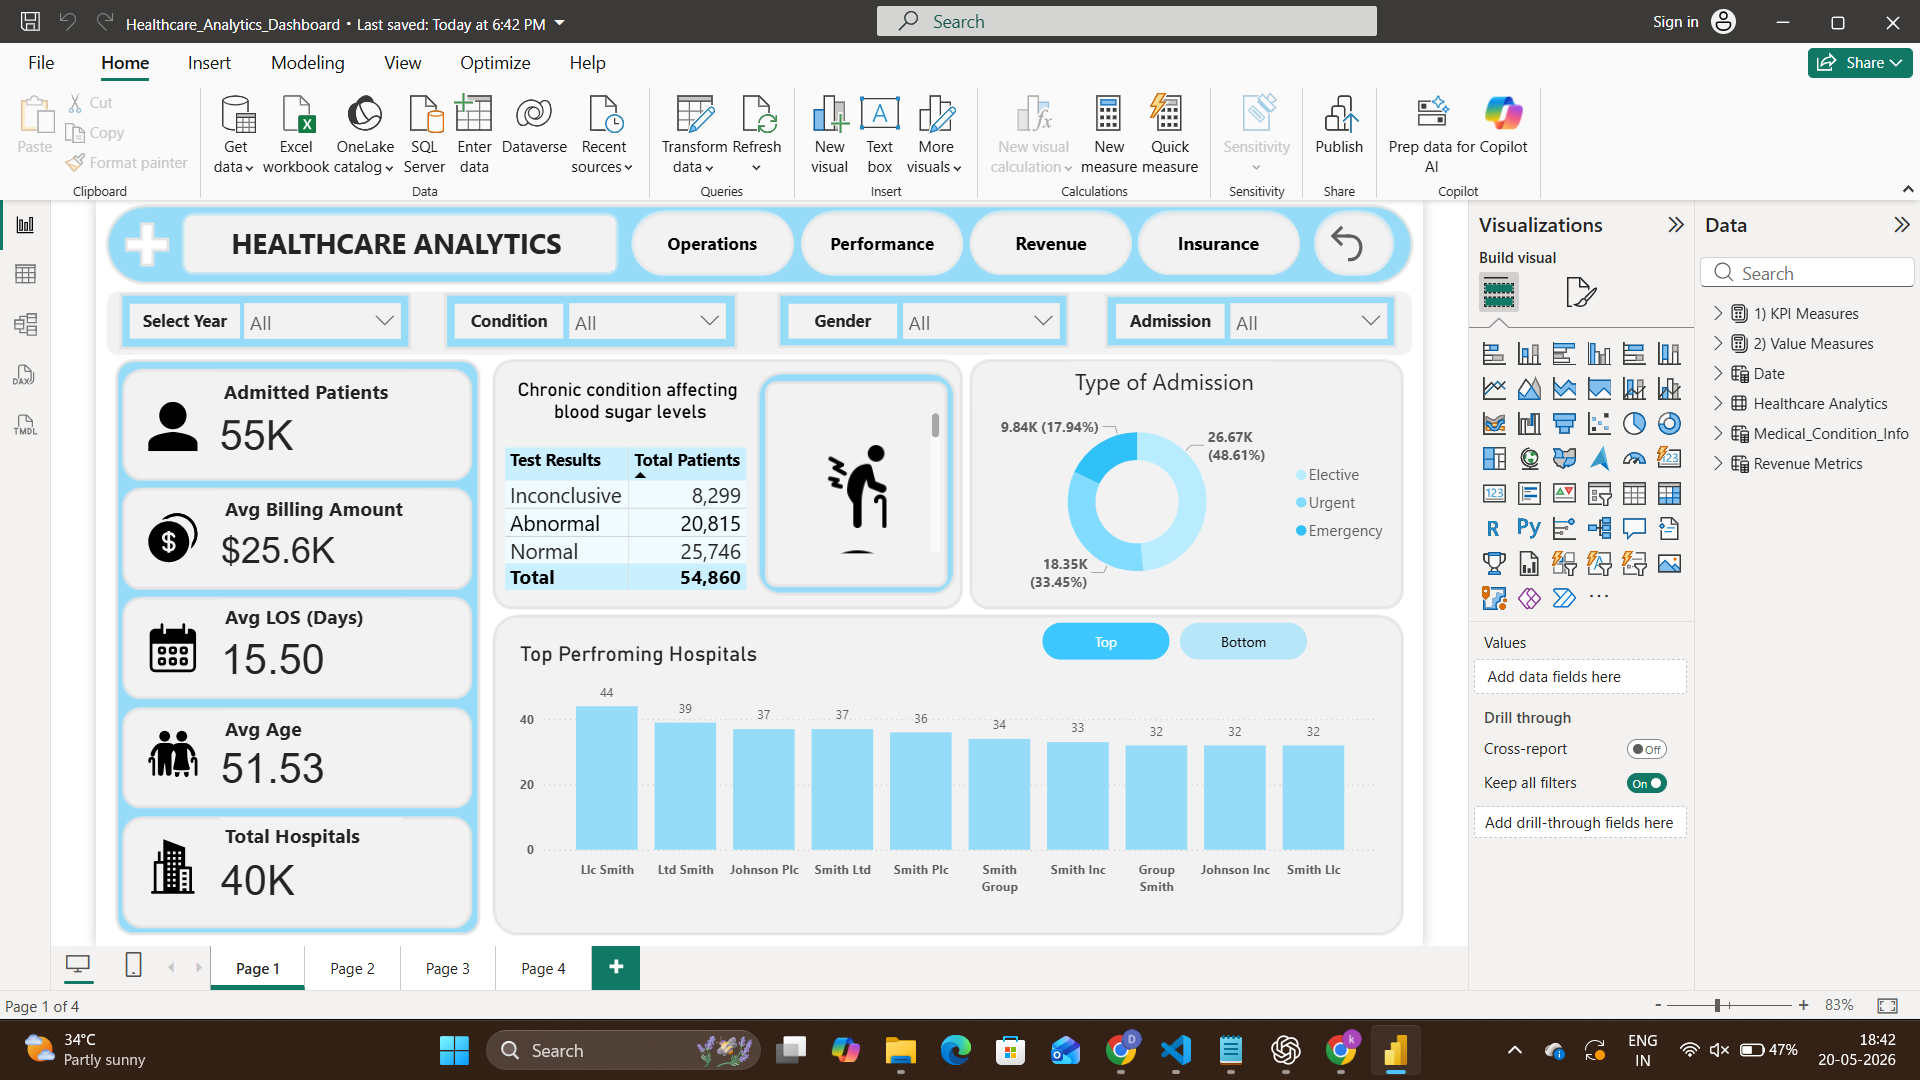

This screenshot's page, from the dashboard's own definition file:
{"tool":"powerbi","page":{"name":"Page 1","canvas":[1280,720],"ordinal":0},"visuals":[{"type":"cardVisual","fields":{"Data":["1) DAX Measures.Total Patients"]},"box":[90.5,181,205.1,92.9],"z":0},{"type":"clusteredColumnChart","title":"Top Perfroming Hospitals","fields":{"Y":["1) DAX Measures.Total Patients"],"Category":["Healthcare Analytics.Hospital"]},"box":[404.2,426.1,837.3,252.4],"z":0,"group":"g1"},{"type":"textbox","box":[118.2,167.7,177.3,44.6],"z":1000},{"type":"image","box":[38.6,187.1,71.4,62.9],"z":2000},{"type":"textbox","box":[119.4,279.9,195.4,45.8],"z":3000},{"type":"textbox","box":[119.4,384.9,177.3,44.6],"z":4000},{"type":"textbox","box":[119.4,492.2,176.1,44.6],"z":5000},{"type":"textbox","box":[119.4,596,176.1,44.6],"z":6000},{"type":"image","box":[38.6,294.3,71.4,62.9],"z":7000},{"type":"image","box":[38.6,400,71.4,62.9],"z":8000},{"type":"image","box":[38.6,502.9,71.4,62.9],"z":9000},{"type":"image","box":[38.6,611.4,71.4,62.9],"z":10000},{"type":"cardVisual","fields":{"Data":["1) DAX Measures.Total Hospitals"]},"box":[91.7,616.5,213.5,79.6],"z":11000},{"type":"cardVisual","fields":{"Data":["1) DAX Measures.Avg LOS per Hospital"]},"box":[91.7,396.9,223.2,92.9],"z":12000},{"type":"cardVisual","fields":{"Data":["1) DAX Measures.Avg Age"]},"box":[91.7,512.7,223.2,71.2],"z":13000},{"type":"cardVisual","fields":{"Data":["1) DAX Measures.Avg Billing"]},"box":[91.7,292,203.9,92.9],"z":14000},{"type":"card","fields":{"Values":["2) Value Measures.Patients KPI"]},"box":[209.1,215,163,36.6],"z":15000},{"type":"card","fields":{"Values":["2) Value Measures.Avg LOS KPI"]},"box":[207.9,429.9,164.2,36.6],"z":16000},{"type":"card","fields":{"Values":["2) Value Measures.Avg Age KPI"]},"box":[207.9,528,164.2,37.8],"z":17000},{"type":"card","fields":{"Values":["2) Value Measures.Total Hospitals KPI"]},"box":[207.9,633.1,164.2,37.8],"z":18000},{"type":"card","fields":{"Values":["2) Value Measures.Avg Billing KPI"]},"box":[228,322.1,125.5,37.4],"z":19000},{"type":"tableEx","fields":{"Values":["Medical_Condition_Info.Image URL"]},"box":[651.5,197.9,164.1,148.4],"z":20000},{"type":"slicer","fields":{"Values":["Healthcare Analytics.Gender"]},"box":[768.5,89.3,171.3,49.5],"z":21000},{"type":"textbox","box":[668.4,100.1,105,33.8],"z":22000},{"type":"card","fields":{"Values":["Min(Medical_Condition_Info.Description)"]},"box":[396.9,159.3,237.7,68.8],"z":23000},{"type":"textbox","box":[32.6,100.1,106.2,33.8],"z":24000},{"type":"slicer","fields":{"Values":["Date.Year"]},"box":[132.7,89.3,171.3,49.5],"z":25000},{"type":"textbox","box":[984.5,100.1,105,33.8],"z":26000},{"type":"slicer","fields":{"Values":["Healthcare Analytics.Admission Type"]},"box":[1084.6,89.3,171.3,49.5],"z":27000},{"type":"donutChart","title":"Type by Admission","fields":{"Category":["Healthcare Analytics.Admission Type"],"Y":["CountNonNull(Healthcare Analytics.Admission Type)"]},"box":[848.1,197.9,407.8,187],"z":28000},{"type":"tableEx","fields":{"Values":["Healthcare Analytics.Test Results","1) DAX Measures.Total Patients"]},"box":[388.5,234,246.1,147.2],"z":29000},{"type":"textbox","box":[939.8,155.6,196.6,44.6],"z":30000},{"type":"actionButton","box":[680.4,9.7,156.8,63.9],"z":31000},{"type":"actionButton","box":[843.3,9.7,156.8,62.7],"z":32000},{"type":"actionButton","box":[1005,9.7,156.8,62.7],"z":33000},{"type":"actionButton","box":[516.4,9.7,156.8,63.9],"z":34000},{"type":"textbox","box":[125.5,18.1,375.2,49.5],"z":35000},{"type":"textbox","box":[346.2,100.1,105,33.8],"z":36000},{"type":"slicer","fields":{"Values":["Medical_Condition_Info.Medical Condition"]},"box":[446.4,89.3,171.3,49.5],"z":37000},{"type":"group","id":"g1","title":"Top and Bottom","box":[404.2,425.9,837.3,272.7],"z":38000},{"type":"bookmarkNavigator","box":[913.3,407.8,257,36.2],"z":39000},{"type":"actionButton","box":[1175.1,9.7,78.4,63.9],"z":40000}]}

Visuals, with their boxes on the page's 1280x720 design canvas (x1, y1, x2, y2). These are canvas units, not pixel positions in the 1920x1080 screenshot, which may show the page scaled, cropped or inside an application window:
cardVisual - 1) DAX Measures.Total Patients: x1=90 y1=181 x2=296 y2=274
"Top Perfroming Hospitals" clusteredColumnChart: x1=404 y1=426 x2=1242 y2=678
textbox: x1=118 y1=168 x2=296 y2=212
image: x1=39 y1=187 x2=110 y2=250
textbox: x1=119 y1=280 x2=315 y2=326
textbox: x1=119 y1=385 x2=297 y2=430
textbox: x1=119 y1=492 x2=296 y2=537
textbox: x1=119 y1=596 x2=296 y2=641
image: x1=39 y1=294 x2=110 y2=357
image: x1=39 y1=400 x2=110 y2=463
image: x1=39 y1=503 x2=110 y2=566
image: x1=39 y1=611 x2=110 y2=674
cardVisual - 1) DAX Measures.Total Hospitals: x1=92 y1=616 x2=305 y2=696
cardVisual - 1) DAX Measures.Avg LOS per Hospital: x1=92 y1=397 x2=315 y2=490
cardVisual - 1) DAX Measures.Avg Age: x1=92 y1=513 x2=315 y2=584
cardVisual - 1) DAX Measures.Avg Billing: x1=92 y1=292 x2=296 y2=385
card - 2) Value Measures.Patients KPI: x1=209 y1=215 x2=372 y2=252
card - 2) Value Measures.Avg LOS KPI: x1=208 y1=430 x2=372 y2=466
card - 2) Value Measures.Avg Age KPI: x1=208 y1=528 x2=372 y2=566
card - 2) Value Measures.Total Hospitals KPI: x1=208 y1=633 x2=372 y2=671
card - 2) Value Measures.Avg Billing KPI: x1=228 y1=322 x2=354 y2=360
tableEx - Medical_Condition_Info.Image URL: x1=652 y1=198 x2=816 y2=346
slicer - Healthcare Analytics.Gender: x1=768 y1=89 x2=940 y2=139
textbox: x1=668 y1=100 x2=773 y2=134
card - Min(Medical_Condition_Info.Description): x1=397 y1=159 x2=635 y2=228
textbox: x1=33 y1=100 x2=139 y2=134
slicer - Date.Year: x1=133 y1=89 x2=304 y2=139
textbox: x1=984 y1=100 x2=1090 y2=134
slicer - Healthcare Analytics.Admission Type: x1=1085 y1=89 x2=1256 y2=139
"Type by Admission" donutChart: x1=848 y1=198 x2=1256 y2=385
tableEx - Healthcare Analytics.Test Results x 1) DAX Measures.Total Patients: x1=388 y1=234 x2=635 y2=381
textbox: x1=940 y1=156 x2=1136 y2=200
actionButton: x1=680 y1=10 x2=837 y2=74
actionButton: x1=843 y1=10 x2=1000 y2=72
actionButton: x1=1005 y1=10 x2=1162 y2=72
actionButton: x1=516 y1=10 x2=673 y2=74
textbox: x1=126 y1=18 x2=501 y2=68
textbox: x1=346 y1=100 x2=451 y2=134
slicer - Medical_Condition_Info.Medical Condition: x1=446 y1=89 x2=618 y2=139
"Top and Bottom" group: x1=404 y1=426 x2=1242 y2=699
bookmarkNavigator: x1=913 y1=408 x2=1170 y2=444
actionButton: x1=1175 y1=10 x2=1254 y2=74
